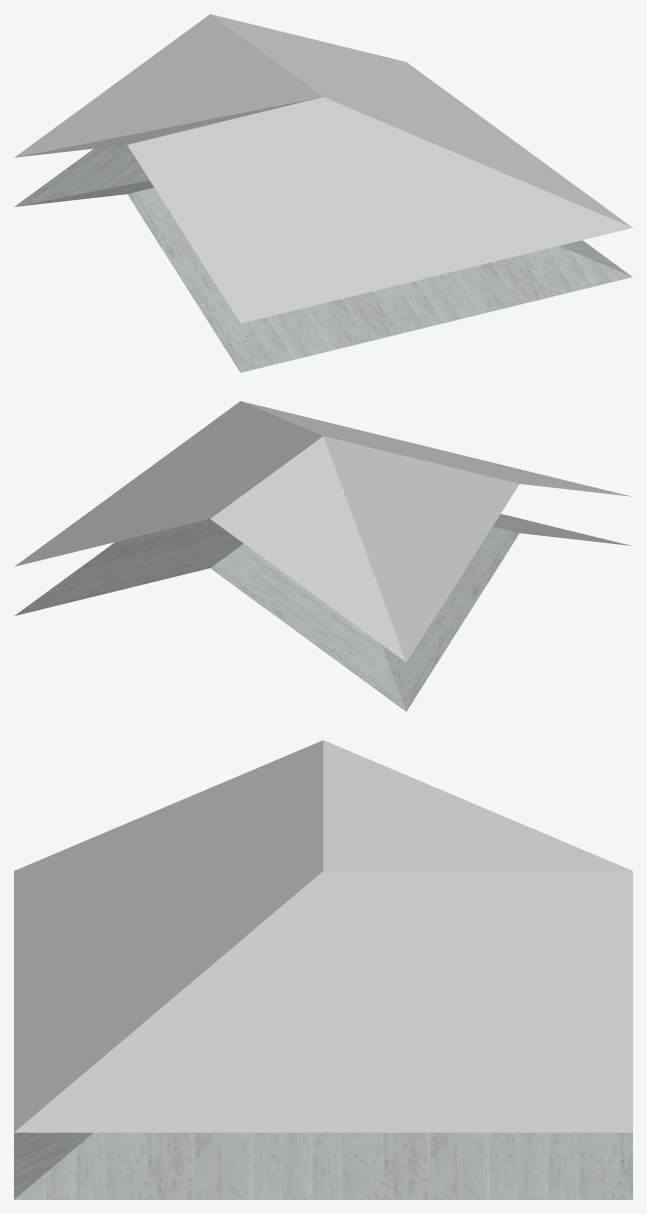
File: SM_Roof_02_Top_Corner_01.fbx
The picture shows the model from 3 angles, top to bottom: view 1: azimuth 30°, elevation 25°; view 2: azimuth 150°, elevation 25°; view 3: azimuth 270°, elevation 25°; orthographic projection. The views are drawn at different scales.
Visible parts, largest first — view 1: SM_Roof_02_Top_Corner_01_LOD0; view 2: SM_Roof_02_Top_Corner_01_LOD0; view 3: SM_Roof_02_Top_Corner_01_LOD0.
Part boxes in pixels (x1,y1,x2,y2): SM_Roof_02_Top_Corner_01_LOD0: [14, 14, 632, 372]; SM_Roof_02_Top_Corner_01_LOD0: [14, 401, 631, 711]; SM_Roof_02_Top_Corner_01_LOD0: [14, 740, 632, 1199].
Size of the model in its own units: 150 by 150 by 53.
